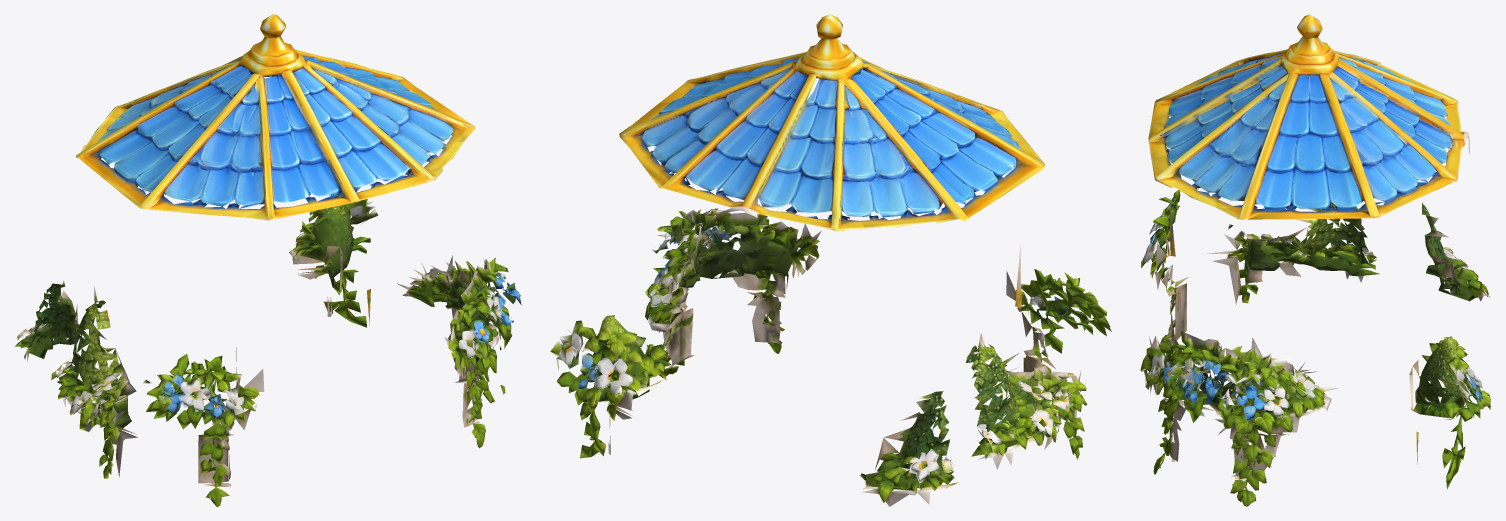
Rendered from HaloDomeHouse_07_placed_v4.glb.
The picture shows the model from 3 angles, left to right: view 1: azimuth 30°, elevation 25°; view 2: azimuth 150°, elevation 25°; view 3: azimuth 270°, elevation 25°; orthographic projection. The views are drawn at different scales.
Parts seen in each view (by area): view 1: HaloDomeHouse_07_Roof_t10, HaloDomeHouse_07_Roof_t11, HaloDomeHouse_07_Roof_t01, HaloDomeHouse_07_Roof_t00, HaloDomeHouse_07_PlantsSideL_t11, HaloDomeHouse_07_PlantsBackL_t11, HaloDomeHouse_07_PlantsBackL_t10, HaloDomeHouse_07_PlantsBackR_t11, HaloDomeHouse_07_PlantsR_t01, HaloDomeHouse_07_PlantsBackR_t10, HaloDomeHouse_07_PlantsR_t11, HaloDomeHouse_07_PlantsBackR_t01 (+14 smaller); view 2: HaloDomeHouse_07_Roof_t01, HaloDomeHouse_07_Roof_t00, HaloDomeHouse_07_Roof_t11, HaloDomeHouse_07_Roof_t10, HaloDomeHouse_07_PlantsBackR_t11, HaloDomeHouse_07_PlantsR_t11, HaloDomeHouse_07_PlantsSideL_t01, HaloDomeHouse_07_PlantsBackR_t10, HaloDomeHouse_07_PlantsSideL_t11, HaloDomeHouse_07_PlantsL_t00, HaloDomeHouse_07_PlantsBackR_t01, HaloDomeHouse_07_PlantsSideR_t10 (+16 smaller); view 3: HaloDomeHouse_07_Roof_t10, HaloDomeHouse_07_Roof_t00, HaloDomeHouse_07_Roof_t01, HaloDomeHouse_07_Roof_t11, HaloDomeHouse_07_PlantsSideL_t11, HaloDomeHouse_07_PlantsSideR_t10, HaloDomeHouse_07_PlantsBackR_t10, HaloDomeHouse_07_PlantsR_t01, HaloDomeHouse_07_PlantsBackR_t01, HaloDomeHouse_07_PlantsSideR_t00, HaloDomeHouse_07_PlantsBackR_t11, HaloDomeHouse_07_PlantsSideR_t11 (+14 smaller).
Boxes of the visible parts, box(x1,y1,x2,y2) form: HaloDomeHouse_07_Roof_t10: box(97, 14, 471, 210); HaloDomeHouse_07_Roof_t11: box(76, 30, 463, 220); HaloDomeHouse_07_Roof_t01: box(99, 57, 471, 204); HaloDomeHouse_07_Roof_t00: box(76, 14, 474, 220); HaloDomeHouse_07_PlantsSideL_t11: box(58, 329, 137, 478); HaloDomeHouse_07_PlantsBackL_t11: box(143, 356, 243, 487); HaloDomeHouse_07_PlantsBackL_t10: box(146, 354, 264, 463); HaloDomeHouse_07_PlantsBackR_t11: box(450, 268, 518, 448); HaloDomeHouse_07_PlantsR_t01: box(291, 205, 370, 311); HaloDomeHouse_07_PlantsBackR_t10: box(448, 260, 516, 422); HaloDomeHouse_07_PlantsR_t11: box(289, 194, 373, 325); HaloDomeHouse_07_PlantsBackR_t01: box(444, 266, 521, 424); HaloDomeHouse_07_Roof_t01: box(640, 52, 1040, 220); HaloDomeHouse_07_Roof_t00: box(629, 14, 1044, 219); HaloDomeHouse_07_Roof_t11: box(619, 38, 1045, 227); HaloDomeHouse_07_Roof_t10: box(651, 14, 1020, 231); HaloDomeHouse_07_PlantsBackR_t11: box(646, 209, 798, 353); HaloDomeHouse_07_PlantsR_t11: box(568, 315, 666, 455); HaloDomeHouse_07_PlantsSideL_t01: box(966, 333, 1087, 464); HaloDomeHouse_07_PlantsBackR_t10: box(653, 211, 804, 331); HaloDomeHouse_07_PlantsSideL_t11: box(977, 365, 1086, 459); HaloDomeHouse_07_PlantsL_t00: box(862, 394, 958, 506); HaloDomeHouse_07_PlantsBackR_t01: box(670, 208, 821, 342); HaloDomeHouse_07_PlantsSideR_t10: box(645, 224, 711, 378); HaloDomeHouse_07_Roof_t10: box(1148, 14, 1469, 218); HaloDomeHouse_07_Roof_t00: box(1148, 14, 1458, 219); HaloDomeHouse_07_Roof_t01: box(1150, 49, 1468, 219); HaloDomeHouse_07_Roof_t11: box(1157, 36, 1461, 218); HaloDomeHouse_07_PlantsSideL_t11: box(1212, 209, 1375, 303); HaloDomeHouse_07_PlantsSideR_t10: box(1229, 347, 1316, 506); HaloDomeHouse_07_PlantsBackR_t10: box(1156, 333, 1248, 464); HaloDomeHouse_07_PlantsR_t01: box(1419, 339, 1490, 489); HaloDomeHouse_07_PlantsBackR_t01: box(1140, 336, 1244, 461); HaloDomeHouse_07_PlantsSideR_t00: box(1228, 346, 1324, 505); HaloDomeHouse_07_PlantsBackR_t11: box(1149, 330, 1244, 502); HaloDomeHouse_07_PlantsSideR_t11: box(1230, 338, 1331, 493).
Bounding box in the file's own units: 19.75 × 18.87 × 14.91.
4 materials, 4 textured.
